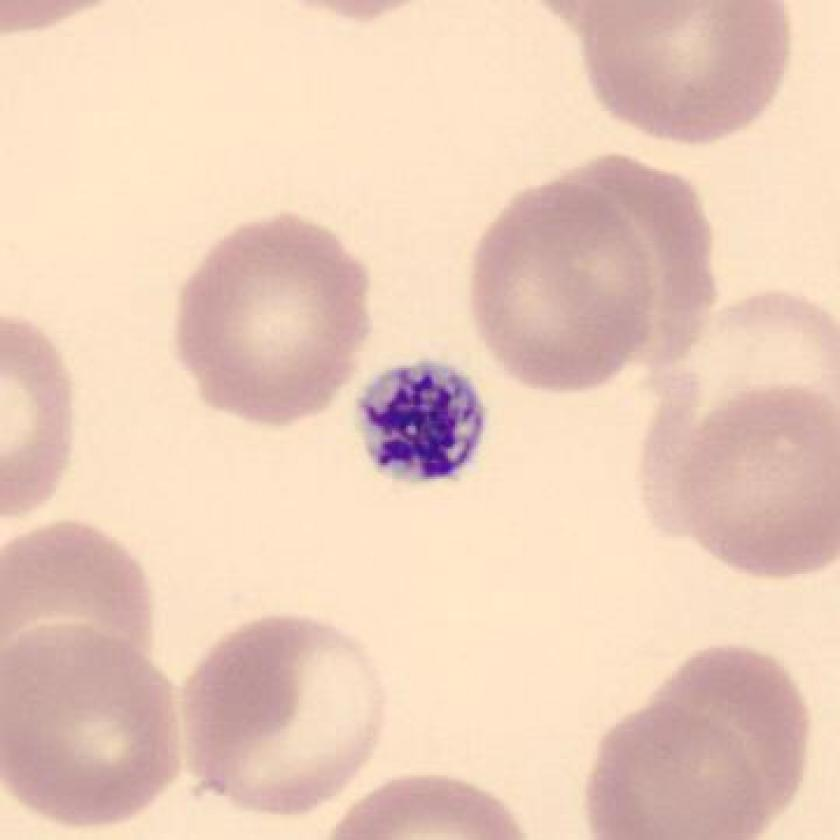platelets: (349, 357, 493, 487)
